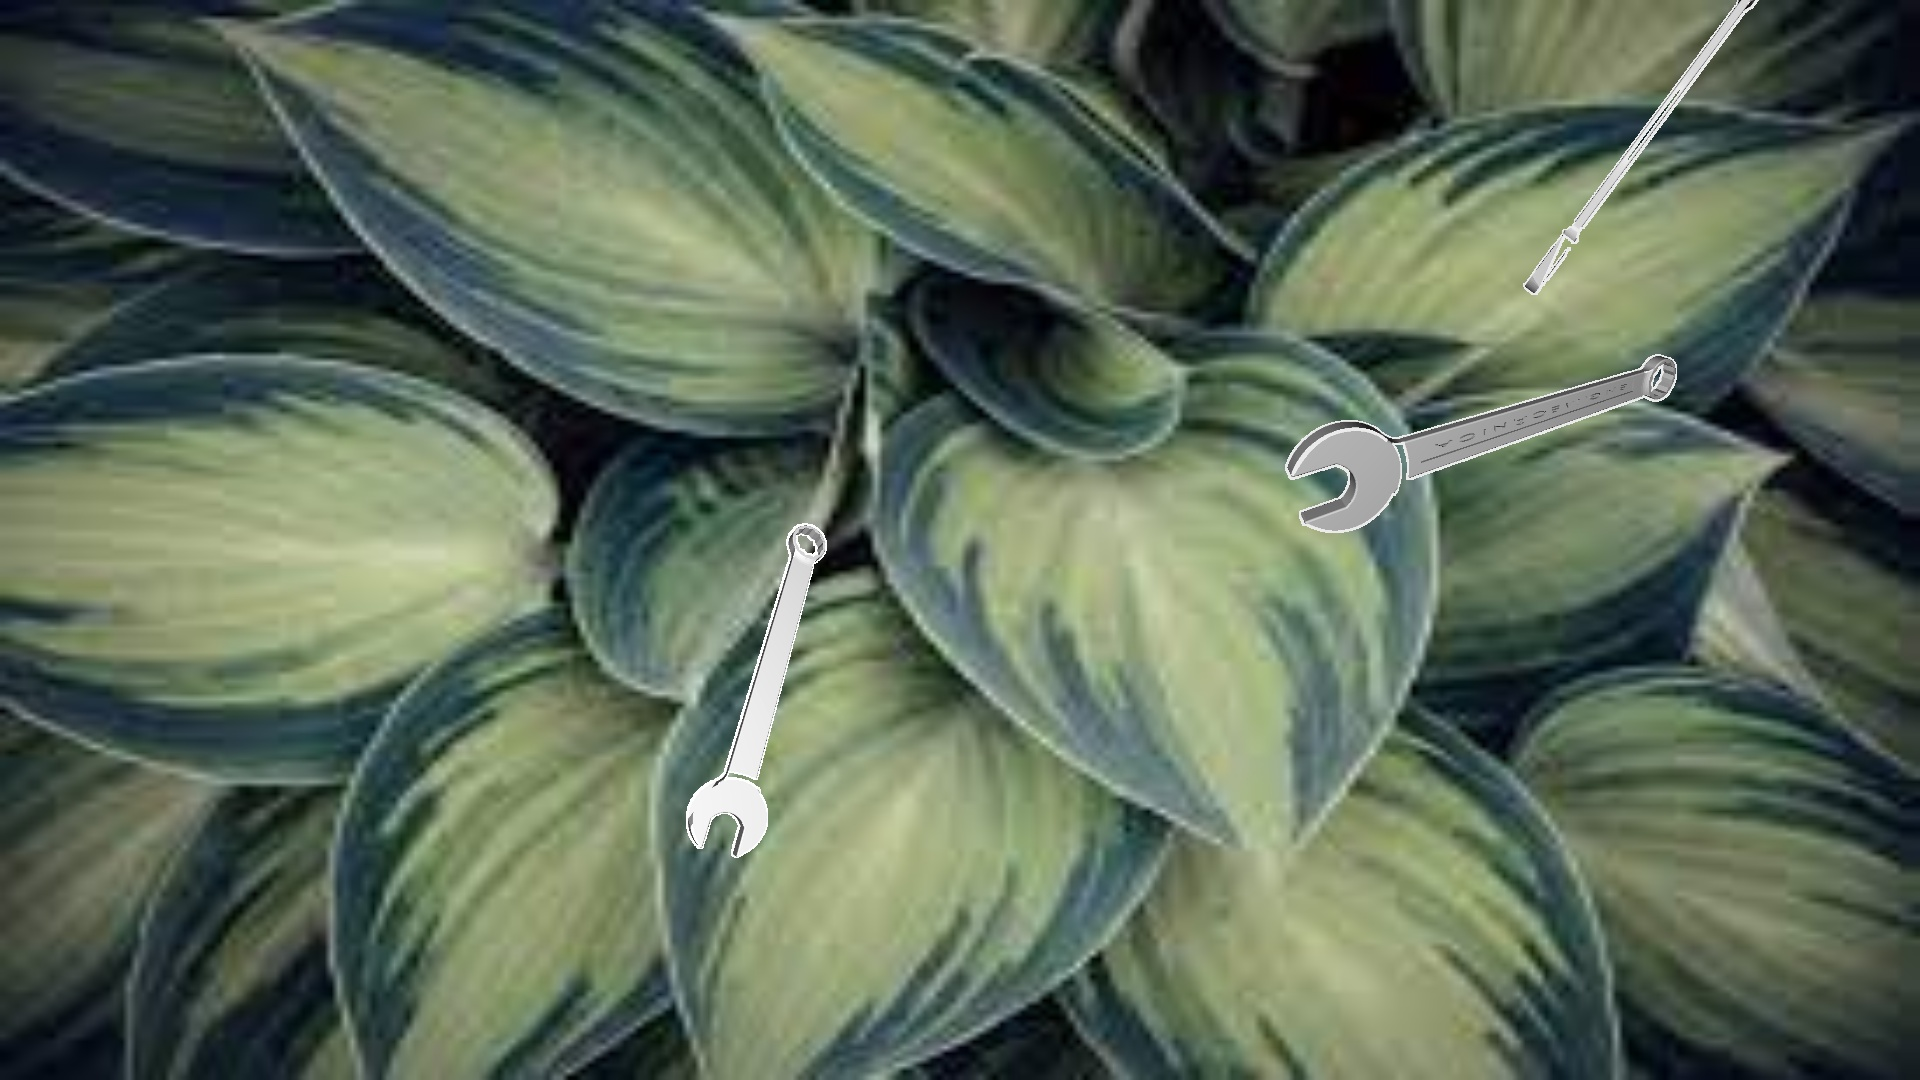Mixed Key: (1284, 353, 1676, 531), (1523, 0, 1758, 294), (686, 524, 825, 857)
